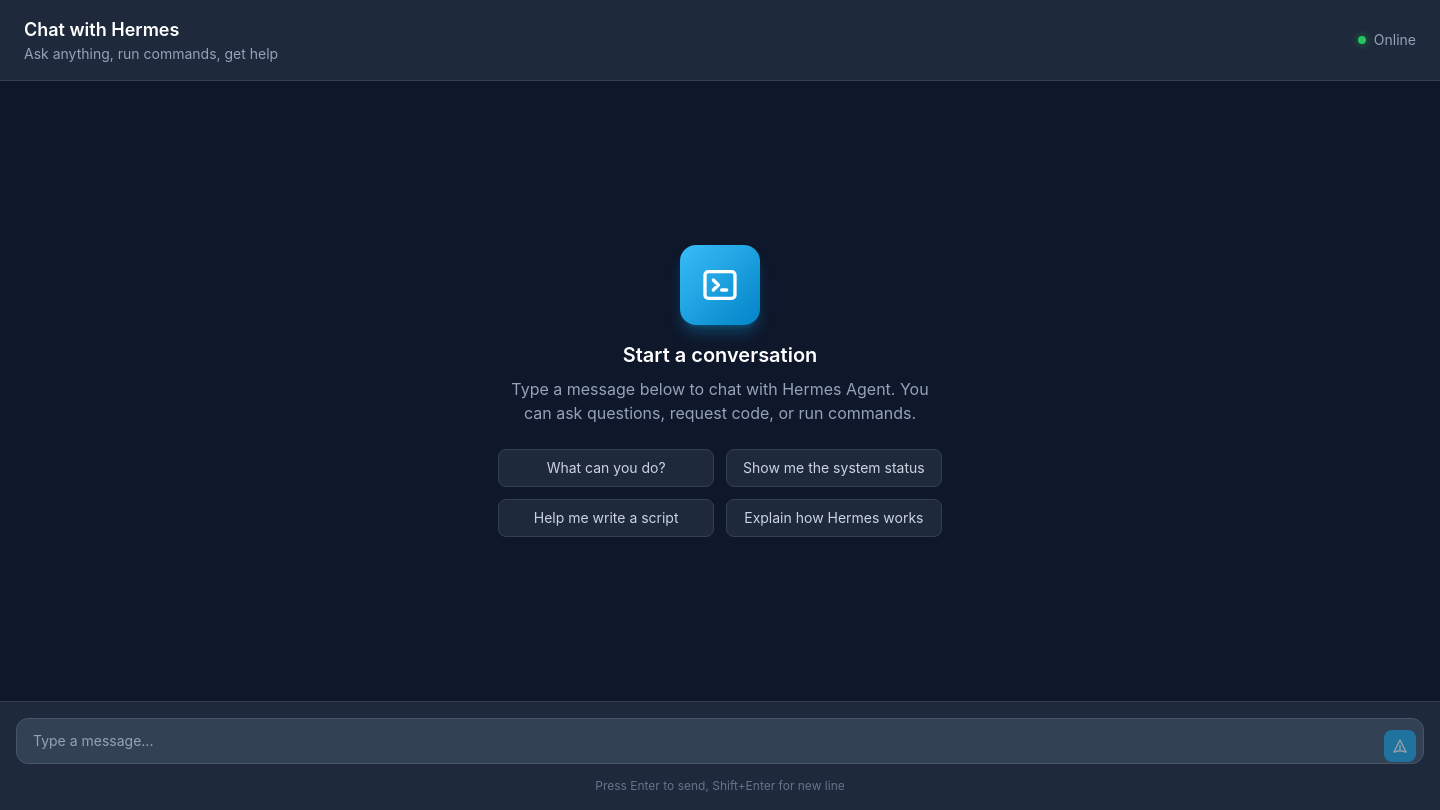
Scenario: ChatView › renders suggestion buttons and fills input
Click the button "What can you do?": coordinates (606, 468) [498, 449, 714, 487]
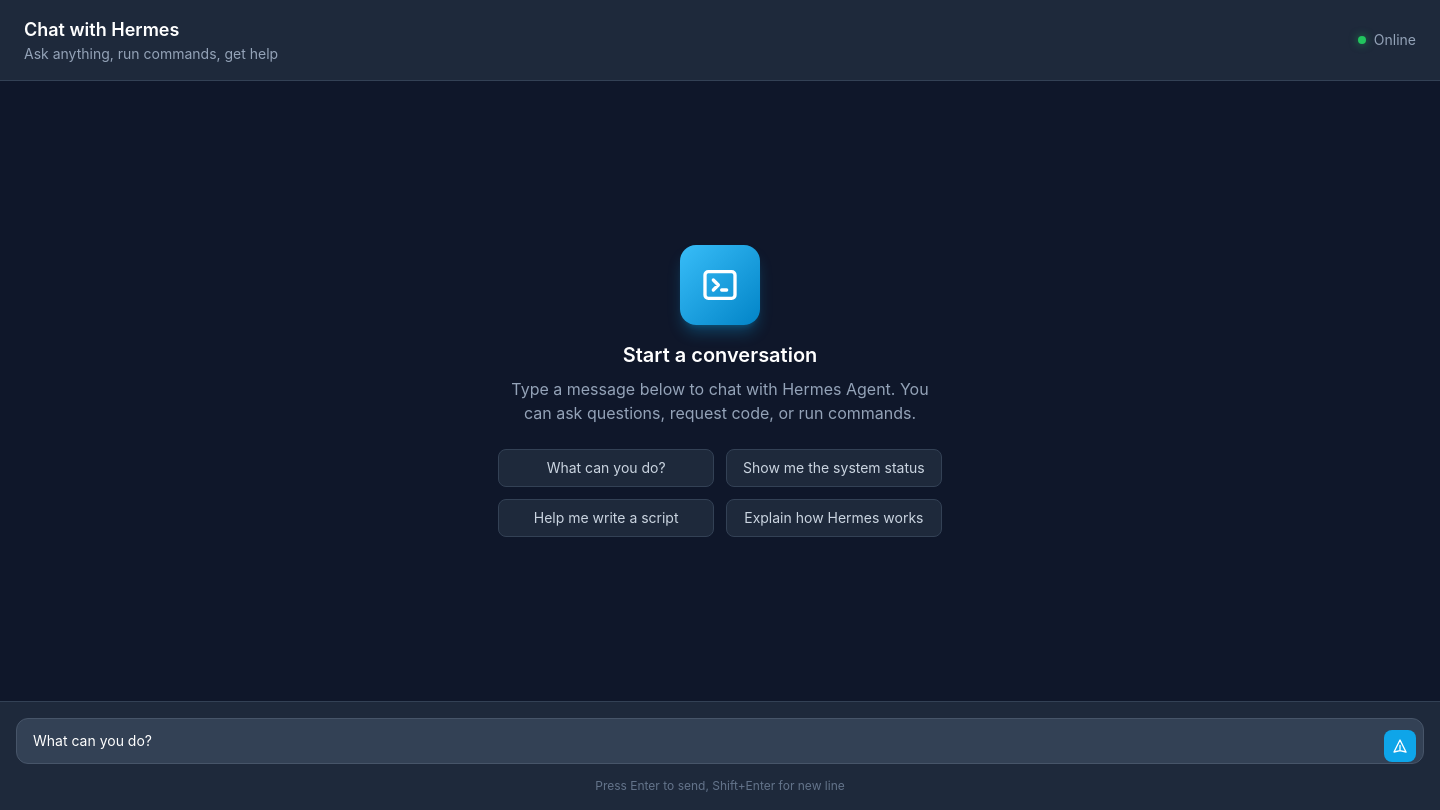
Expected: the text box with placeholder "Type a message..." holds "What can you do?", [16, 718, 1424, 764]
